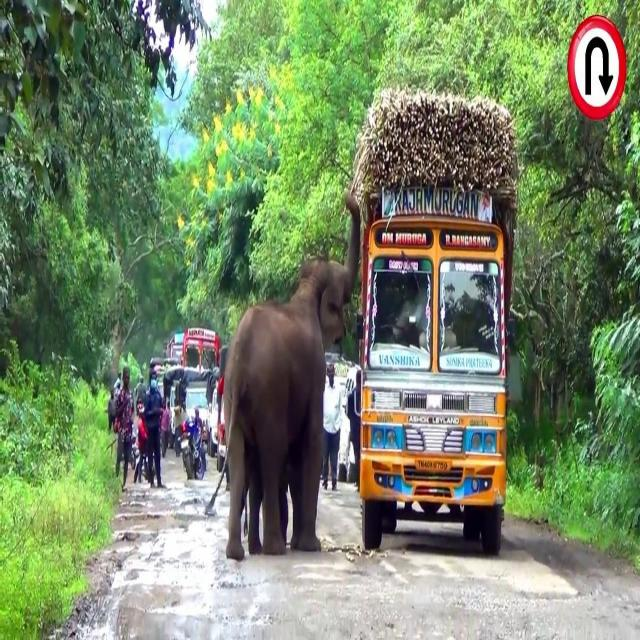Elephant: (208, 189, 361, 559)
